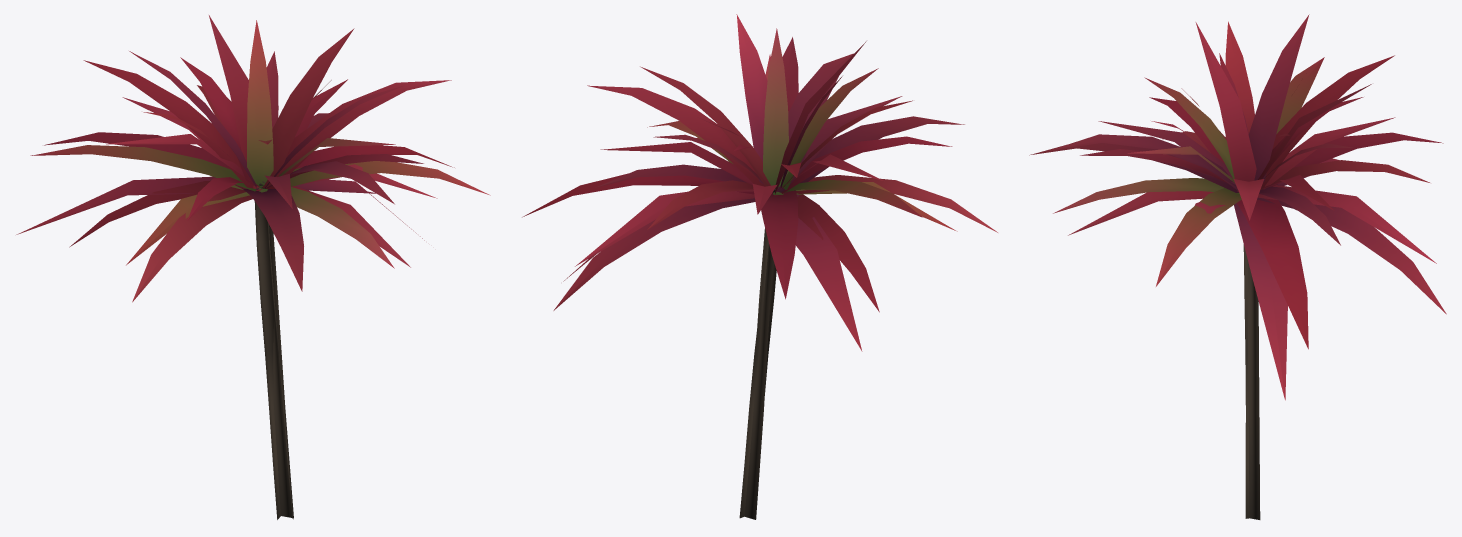
File: ti-plant.glb
3 views of the same model, side by side, from view 1: azimuth 30°, elevation 25°; view 2: azimuth 150°, elevation 25°; view 3: azimuth 270°, elevation 25° (orthographic). The views are drawn at different scales.
Parts seen in each view (by area): view 1: ti-plant, ti-plant-lo; view 2: ti-plant, ti-plant-lo; view 3: ti-plant, ti-plant-lo.
Part boxes in pixels (box(x1,y1,x2,y2)): ti-plant: box(30, 20, 490, 519); ti-plant-lo: box(16, 15, 437, 518); ti-plant: box(522, 14, 997, 518); ti-plant-lo: box(563, 41, 957, 519); ti-plant: box(1029, 14, 1446, 519); ti-plant-lo: box(1068, 22, 1436, 519).
Size of the model in its own units: 1.7 by 1.9 by 1.57.
